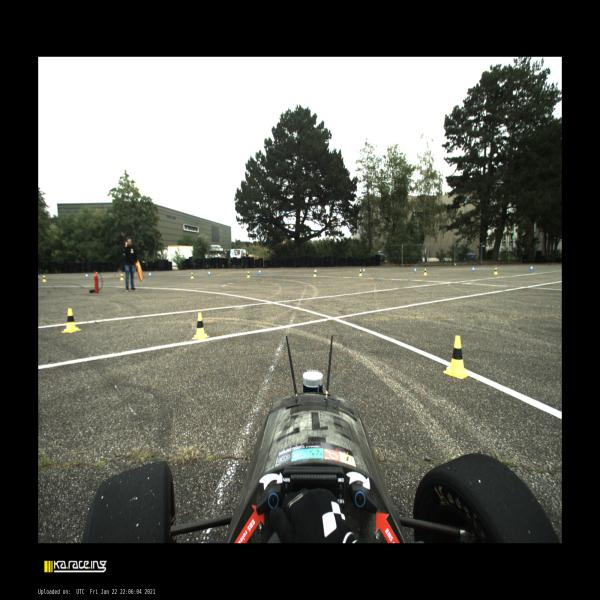blue_cone: (85, 272, 89, 279), (149, 272, 152, 278), (530, 265, 533, 271), (314, 268, 317, 274), (208, 270, 210, 276), (259, 269, 261, 275), (363, 267, 365, 273), (414, 267, 416, 273), (472, 266, 474, 272)
yellow_cone: (443, 336, 470, 379), (191, 313, 209, 340), (61, 308, 81, 332), (120, 273, 125, 281), (42, 275, 47, 282), (312, 270, 316, 277), (190, 272, 194, 279), (494, 268, 498, 274), (424, 268, 427, 276), (359, 269, 362, 276), (247, 271, 250, 278)
